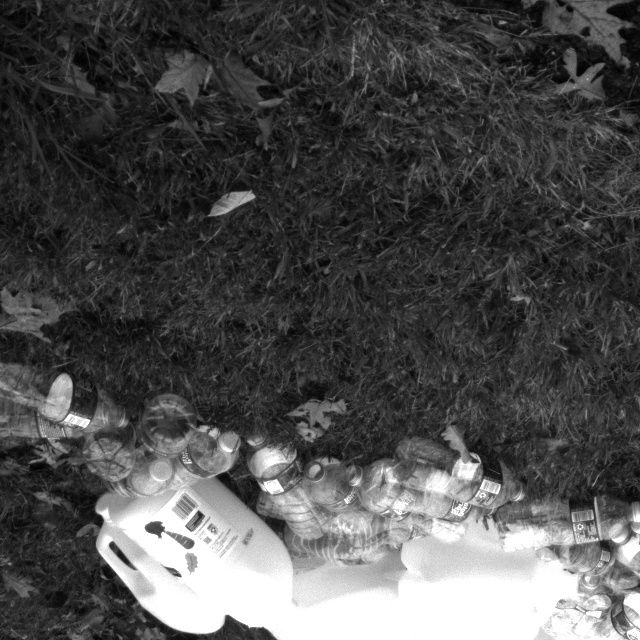bottle: (0, 352, 134, 436), (109, 420, 245, 499), (392, 437, 527, 513), (247, 429, 335, 544), (497, 490, 640, 554), (345, 458, 474, 524), (0, 388, 110, 442), (301, 453, 367, 520), (282, 518, 385, 559)
can: (102, 457, 296, 635), (89, 492, 234, 638), (400, 532, 580, 640), (261, 553, 404, 640)
